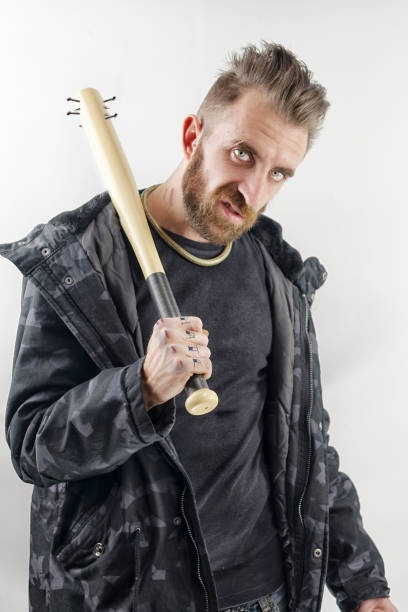bita: (74, 83, 218, 419)
